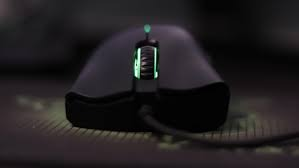mouse: (55, 6, 237, 147)
